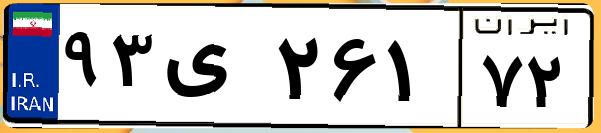1: (385, 28, 445, 110)
2: (270, 28, 330, 110), (525, 38, 570, 115)
3: (110, 28, 158, 98)
6: (330, 28, 385, 110)
7: (475, 38, 525, 113)
9: (57, 26, 110, 100)
ی: (158, 20, 270, 120)
